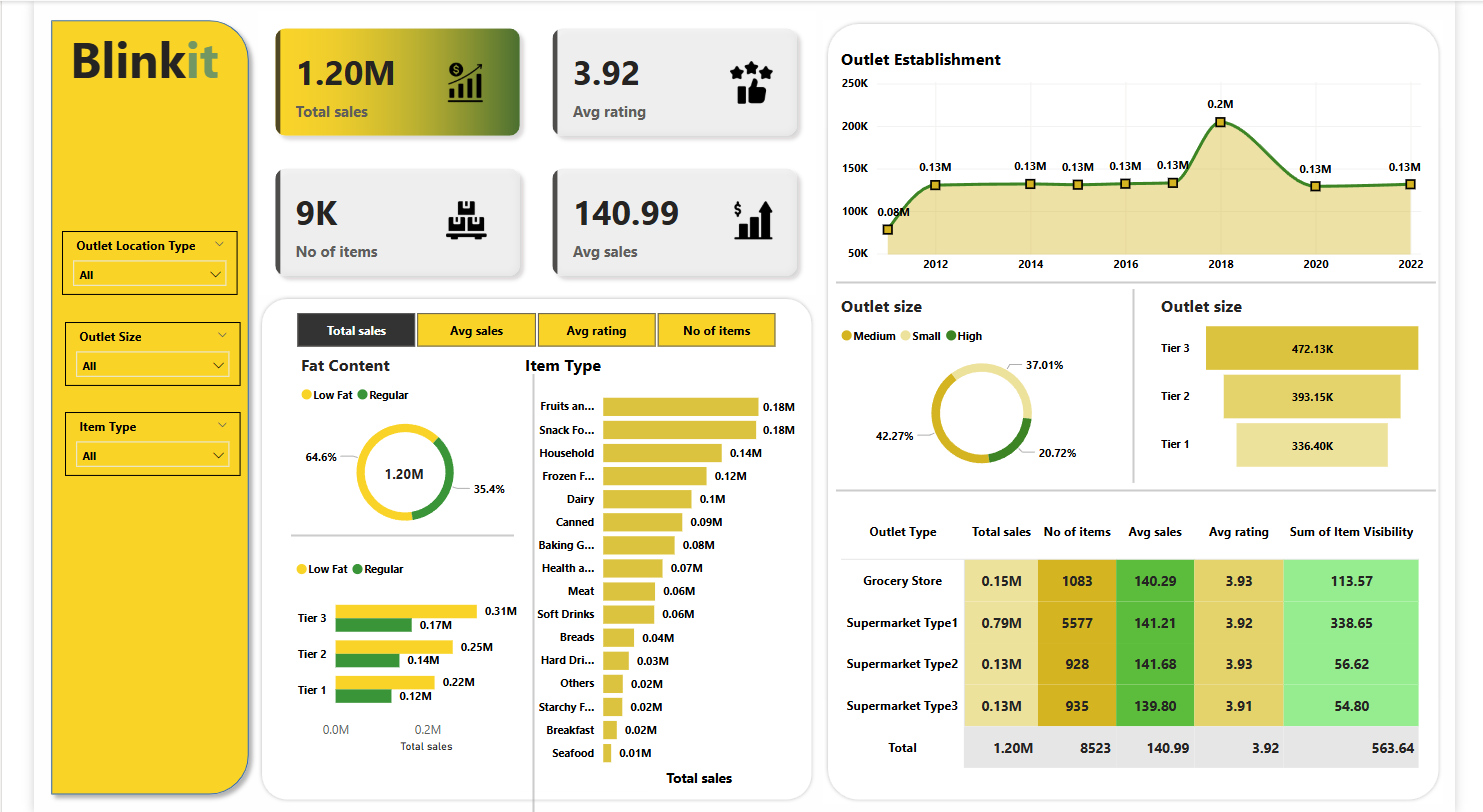

The page's visual inventory and layout, read from the dashboard file:
{"tool":"powerbi","page":{"name":"Page 1","canvas":[1400,800],"ordinal":0},"visuals":[{"type":"shape","box":[7.9,9.9,212.8,781.3],"z":0},{"type":"textbox","box":[30.5,18.7,166.5,95.6],"z":1000},{"type":"cardVisual","fields":{"Data":["BlinkIT Grocery Data.Total sales","BlinkIT Grocery Data.Avg rating","BlinkIT Grocery Data.No of items","BlinkIT Grocery Data.Avg sales"]},"box":[220.7,9.9,549.8,279.8],"z":2000},{"type":"shape","box":[220.7,289.7,549.8,501.5],"z":3000},{"type":"donutChart","title":"Fat Content","fields":{"Y":["BlinkIT Grocery Data.Total sales"],"Category":["BlinkIT Grocery Data.Item Fat Content"]},"box":[258.1,347.8,214.8,185.2],"z":4000},{"type":"slicer","fields":{"Values":["Metrics.Metrics"]},"box":[233.5,300.5,521.2,47.3],"z":5000},{"type":"card","fields":{"Values":["BlinkIT Grocery Data.Total sales"]},"box":[338.9,447.3,52.2,42.4],"z":6000},{"type":"clusteredBarChart","fields":{"Y":["BlinkIT Grocery Data.Total sales"],"Category":["BlinkIT Grocery Data.Outlet Location Type"],"Series":["BlinkIT Grocery Data.Item Fat Content"]},"box":[253.2,540.9,242.4,203.9],"z":7000},{"type":"shape","box":[253.2,520.2,219.7,12.8],"z":8000},{"type":"shape","box":[1076.8,283.7,12.8,191.1],"z":9000},{"type":"barChart","title":" Item Type","fields":{"Category":["BlinkIT Grocery Data.Item Type"],"Y":["BlinkIT Grocery Data.Total sales"]},"box":[478.8,347.8,275.9,430.5],"z":9001},{"type":"shape","box":[778.3,18.7,609.9,772.4],"z":9002},{"type":"lineChart","title":"Outlet Establishment","fields":{"Category":["BlinkIT Grocery Data.Outlet Establishment Year"],"Y":["BlinkIT Grocery Data.Total sales"]},"box":[790.1,46.3,584.2,231.5],"z":9003},{"type":"shape","box":[790.1,270.9,591.1,12.8],"z":9004},{"type":"donutChart","title":"Outlet size","fields":{"Y":["BlinkIT Grocery Data.Total sales"],"Category":["BlinkIT Grocery Data.Outlet Size"]},"box":[790.1,289.7,286.7,185.2],"z":9005},{"type":"funnel","title":"Outlet size","fields":{"Category":["BlinkIT Grocery Data.Outlet Location Type"],"Y":["BlinkIT Grocery Data.Total sales"]},"box":[1105.4,289.7,269,179.3],"z":9006},{"type":"shape","box":[1076.8,283.7,12.8,191.1],"z":9007},{"type":"shape","box":[486,367.8,12.8,431.5],"z":9008},{"type":"pivotTable","fields":{"Rows":["BlinkIT Grocery Data.Outlet Type"],"Values":["BlinkIT Grocery Data.Total sales","BlinkIT Grocery Data.No of items","BlinkIT Grocery Data.Avg sales","BlinkIT Grocery Data.Avg rating","Sum(BlinkIT Grocery Data.Item Visibility)"]},"box":[790.1,497.5,584.2,271.9],"z":9009},{"type":"shape","box":[790.1,474.9,591.1,14.8],"z":9010},{"type":"image","box":[399,55.2,52.2,50.2],"z":9011},{"type":"image","box":[680.8,52.2,52.2,56.2],"z":9012},{"type":"image","box":[680.8,191.1,55.2,50.2],"z":9013},{"type":"image","box":[401,191.1,50.2,50.2],"z":9014},{"type":"slicer","fields":{"Values":["BlinkIT Grocery Data.Outlet Location Type"]},"box":[27.6,226.6,173.4,63.1],"z":9015},{"type":"slicer","fields":{"Values":["BlinkIT Grocery Data.Outlet Size"]},"box":[30.5,316.3,173.4,63.1],"z":9016},{"type":"slicer","fields":{"Values":["BlinkIT Grocery Data.Item Type"]},"box":[30.5,404.9,173.4,63.1],"z":9017}]}

Visuals, with their boxes on the page's 1400x800 design canvas (x1, y1, x2, y2). These are canvas units, not pixel positions in the 1483x812 screenshot, which may show the page scaled, cropped or inside an application window:
shape: box=[8, 10, 221, 791]
textbox: box=[30, 19, 197, 114]
cardVisual - BlinkIT Grocery Data.Total sales x BlinkIT Grocery Data.Avg rating: box=[221, 10, 770, 290]
shape: box=[221, 290, 770, 791]
"Fat Content" donutChart: box=[258, 348, 473, 533]
slicer - Metrics.Metrics: box=[234, 300, 755, 348]
card - BlinkIT Grocery Data.Total sales: box=[339, 447, 391, 490]
clusteredBarChart - BlinkIT Grocery Data.Total sales x BlinkIT Grocery Data.Outlet Location Type: box=[253, 541, 496, 745]
shape: box=[253, 520, 473, 533]
shape: box=[1077, 284, 1090, 475]
" Item Type" barChart: box=[479, 348, 755, 778]
shape: box=[778, 19, 1388, 791]
"Outlet Establishment" lineChart: box=[790, 46, 1374, 278]
shape: box=[790, 271, 1381, 284]
"Outlet size" donutChart: box=[790, 290, 1077, 475]
"Outlet size" funnel: box=[1105, 290, 1374, 469]
shape: box=[1077, 284, 1090, 475]
shape: box=[486, 368, 499, 799]
pivotTable - BlinkIT Grocery Data.Outlet Type x BlinkIT Grocery Data.Total sales: box=[790, 498, 1374, 769]
shape: box=[790, 475, 1381, 490]
image: box=[399, 55, 451, 105]
image: box=[681, 52, 733, 108]
image: box=[681, 191, 736, 241]
image: box=[401, 191, 451, 241]
slicer - BlinkIT Grocery Data.Outlet Location Type: box=[28, 227, 201, 290]
slicer - BlinkIT Grocery Data.Outlet Size: box=[30, 316, 204, 379]
slicer - BlinkIT Grocery Data.Item Type: box=[30, 405, 204, 468]
